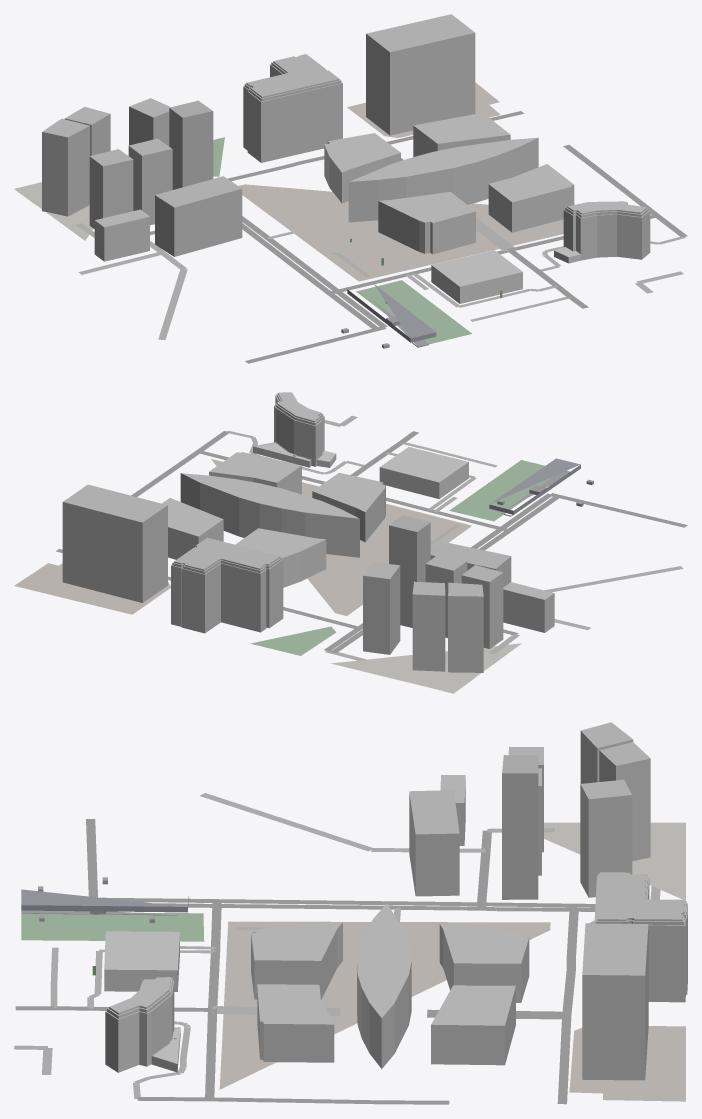
The picture shows the model from 3 angles, top to bottom: view 1: azimuth 30°, elevation 25°; view 2: azimuth 150°, elevation 25°; view 3: azimuth 270°, elevation 25°; orthographic projection. The views are drawn at different scales.
Bounding box in the file's own units: 555 × 105 × 507.
